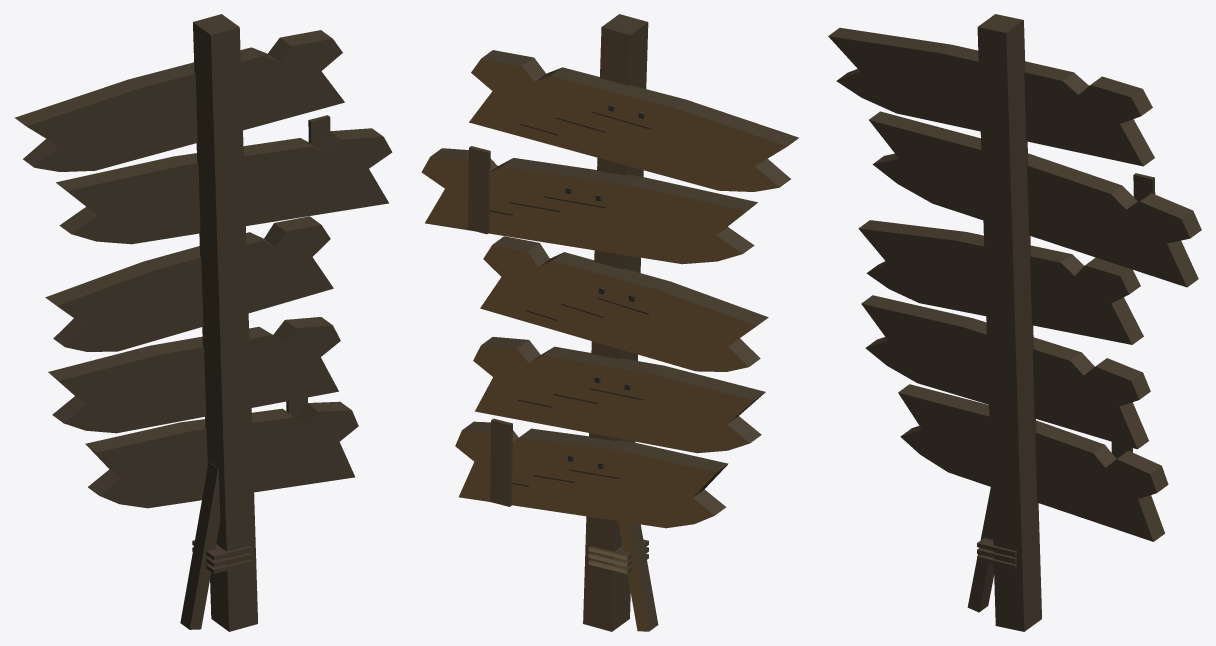
Rendered from Signpost_Menu.fbx.
The picture shows the model from 3 angles, left to right: view 1: azimuth 30°, elevation 25°; view 2: azimuth 150°, elevation 25°; view 3: azimuth 330°, elevation 25°; orthographic projection.
Parts seen in each view (by area): view 1: Signpost_Menu; view 2: Signpost_Menu; view 3: Signpost_Menu.
Boxes of the visible parts, x1=… form: Signpost_Menu: x1=14, y1=14, x2=392, y2=631; Signpost_Menu: x1=421, y1=14, x2=798, y2=631; Signpost_Menu: x1=828, y1=14, x2=1201, y2=631.
Size of the model in its own units: 3.42 by 5.37 by 0.535.
